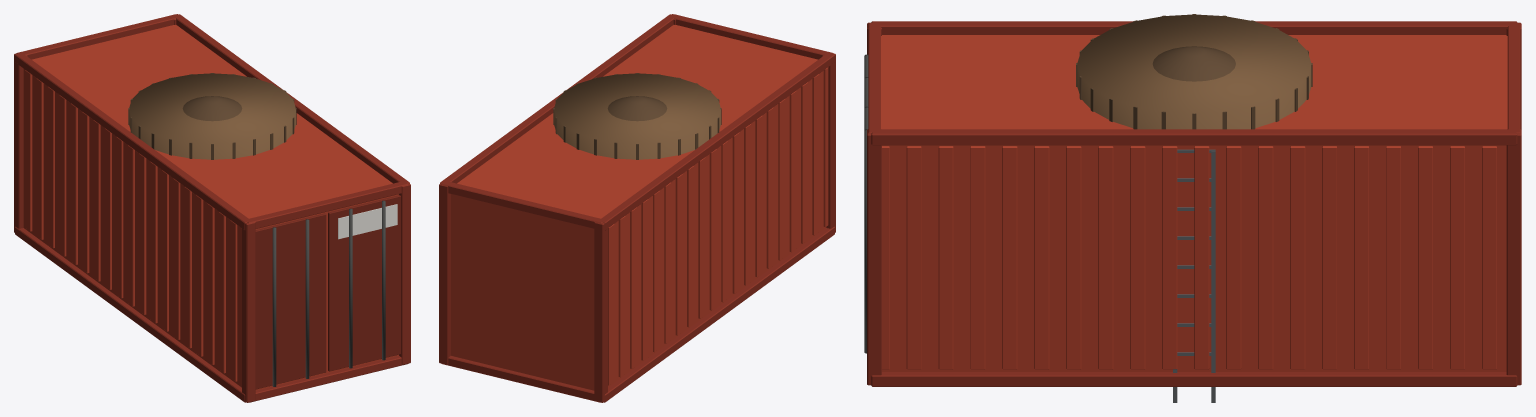
The model's file is furniture.glb.
3 renders of one model, left to right at view 1: azimuth 30°, elevation 25°; view 2: azimuth 150°, elevation 25°; view 3: azimuth 270°, elevation 25°, orthographic. The views are drawn at different scales.
Parts seen in each view (by area): view 1: container, water_tank; view 2: container, water_tank; view 3: container, water_tank.
Boxes of the visible parts, left/top/right/bottom form: container: left=14, top=14, right=410, bottom=402; water_tank: left=128, top=73, right=296, bottom=159; container: left=439, top=14, right=835, bottom=402; water_tank: left=553, top=73, right=721, bottom=159; container: left=864, top=21, right=1521, bottom=386; water_tank: left=1076, top=14, right=1312, bottom=402.
Bounding box in the file's own units: 2.52 × 3.08 × 6.16.
